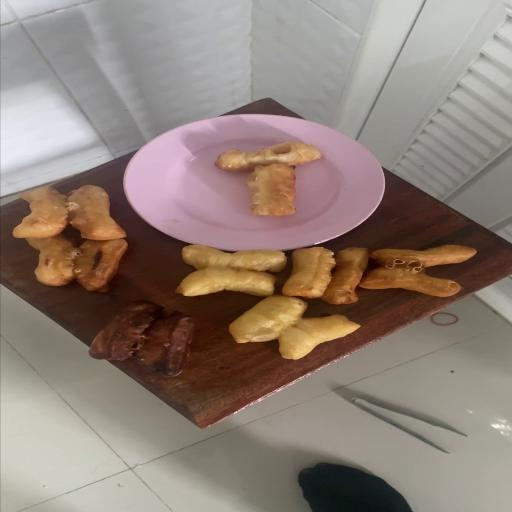street_burnt_defect: (90, 301, 192, 374), (27, 237, 126, 290)
